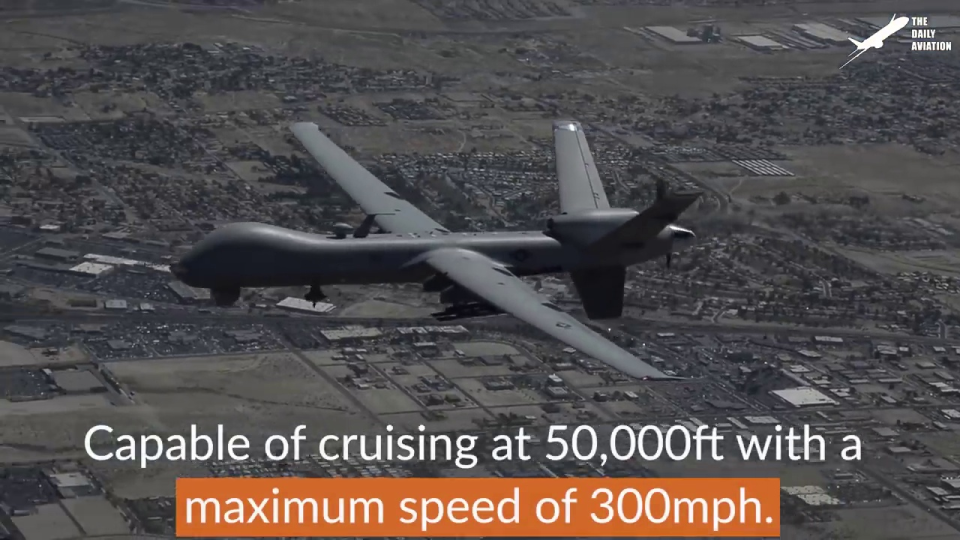military drone: (169, 119, 697, 379)
